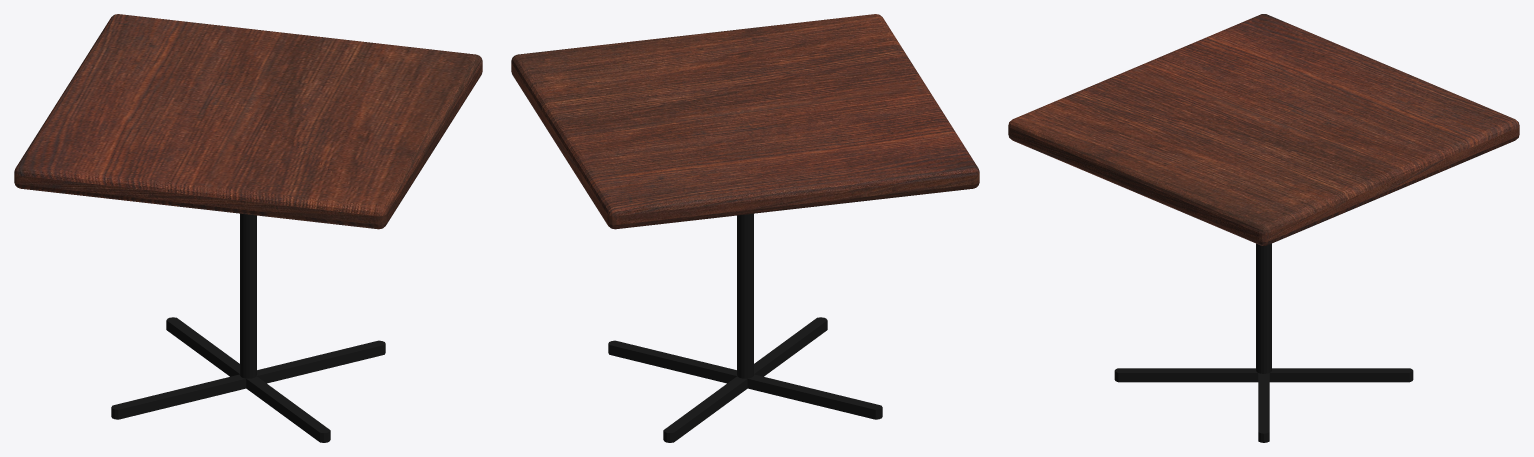
The model's file is Table.fbx.
3 views of the same model, side by side, from view 1: azimuth 30°, elevation 25°; view 2: azimuth 150°, elevation 25°; view 3: azimuth 270°, elevation 25° (orthographic). The views are drawn at different scales.
Visible parts, largest first — view 1: Table; view 2: Table; view 3: Table.
Boxes of the visible parts, x1,y1,x2,y2 form: Table: (14,14,482,442); Table: (511,14,979,442); Table: (1008,14,1519,442).
Bounding box in the file's own units: 279 × 157 × 279.
